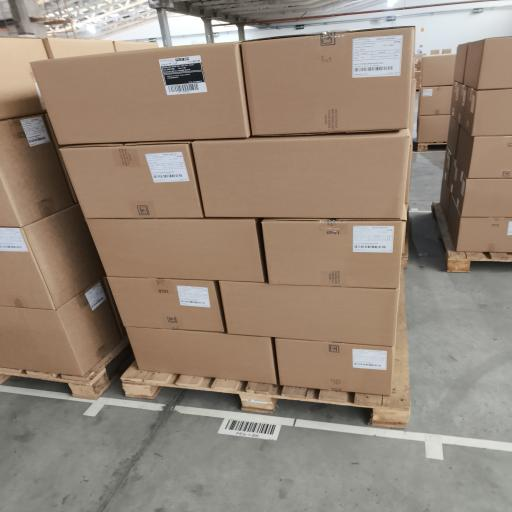pallet: (121, 275, 410, 428), (0, 338, 133, 399), (432, 202, 511, 272), (401, 211, 411, 269), (417, 142, 446, 152)
